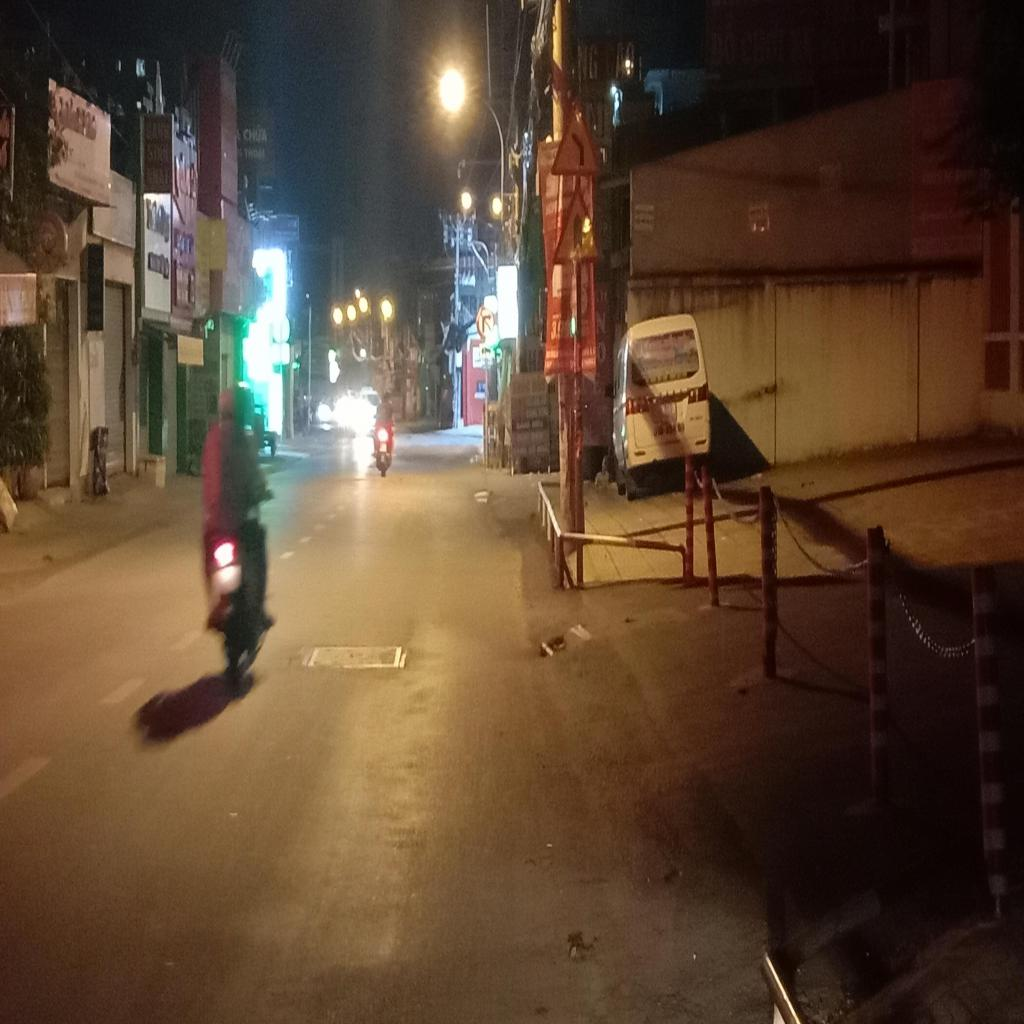cam_re_phai: (476, 304, 496, 338)
cho_ngoat_nguy_hiem_ben_trai: (550, 92, 602, 174)
giao_nhau_voi_duong_khong_uu_tien: (554, 182, 605, 262)
khac: (479, 344, 494, 360)
